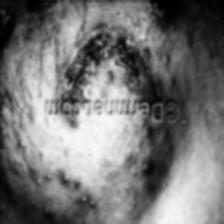Toxin: (51, 28, 161, 97), (106, 132, 156, 184), (0, 18, 17, 67), (140, 0, 180, 19), (0, 0, 53, 13)
